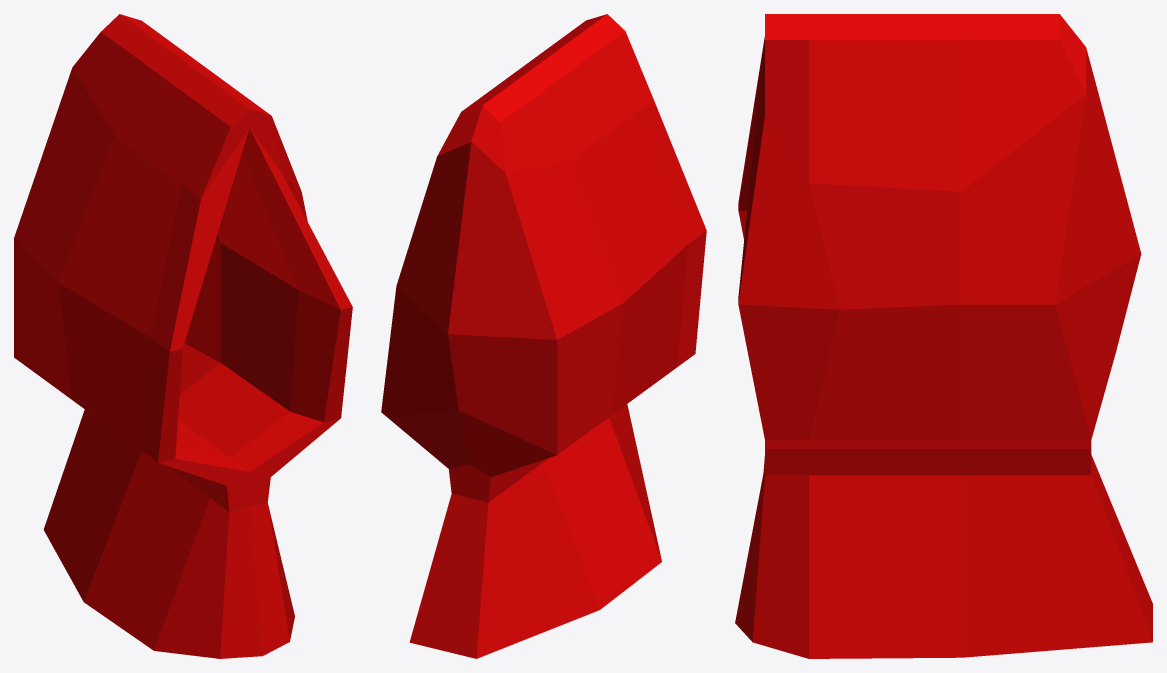
File: hood.fbx
3 renders of one model, left to right at view 1: azimuth 30°, elevation 25°; view 2: azimuth 150°, elevation 25°; view 3: azimuth 270°, elevation 25°, orthographic. The views are drawn at different scales.
Visible parts, largest first — view 1: polySurface1; view 2: polySurface1; view 3: polySurface1.
Part boxes in pixels (<box>): polySurface1: <box>14,14,352,658</box>; polySurface1: <box>381,14,706,658</box>; polySurface1: <box>735,14,1152,658</box>.
Bounding box in the file's own units: 6.12 × 15.31 × 9.52.
